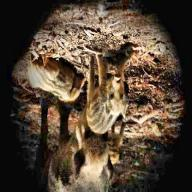boar: (77, 40, 140, 138)
